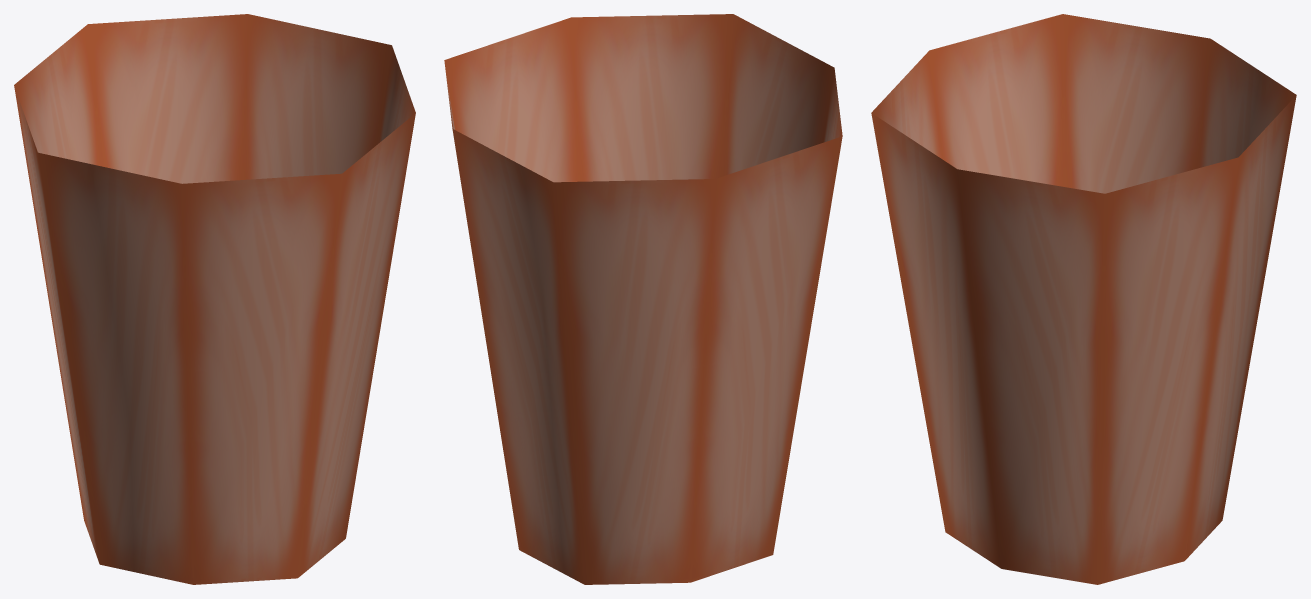
Rendered from TestStreetlight01b.fbx.
The picture shows the model from 3 angles, left to right: view 1: azimuth 30°, elevation 25°; view 2: azimuth 150°, elevation 25°; view 3: azimuth 270°, elevation 25°; orthographic projection. The views are drawn at different scales.
Parts seen in each view (by area): view 1: Streetlight01.001; view 2: Streetlight01.001; view 3: Streetlight01.001.
Boxes of the visible parts, box(x1,y1,x2,y2) form: Streetlight01.001: box(14, 14, 415, 584); Streetlight01.001: box(444, 14, 842, 584); Streetlight01.001: box(871, 14, 1296, 584).
Bounding box in the file's own units: 40.95 × 44.87 × 40.95.
1 material, 1 textured.
